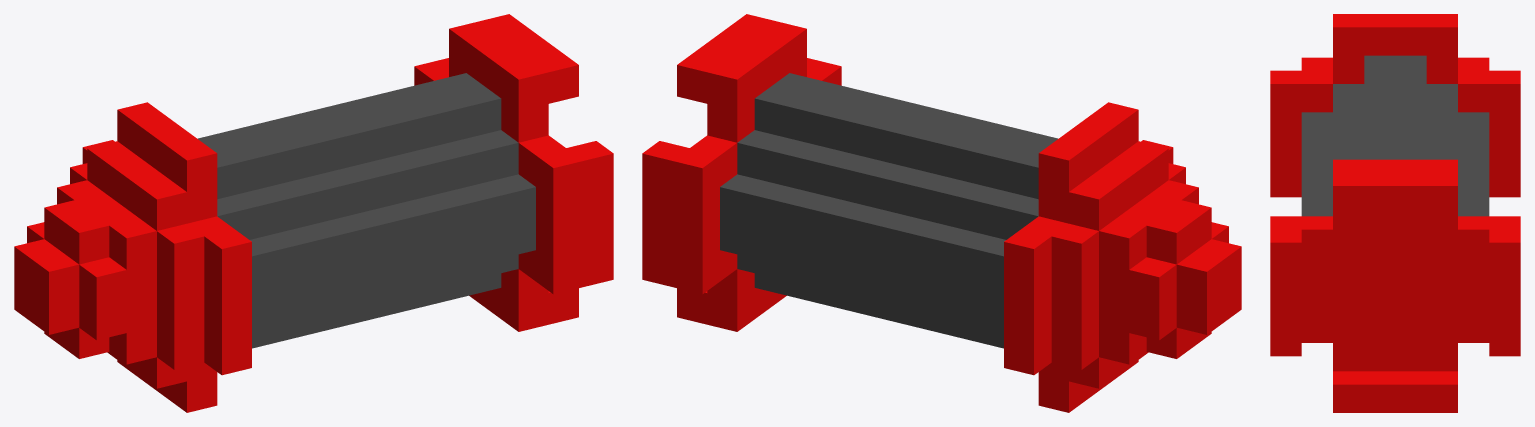
Rendered from missle.fbx.
3 renders of one model, left to right at view 1: azimuth 30°, elevation 25°; view 2: azimuth 150°, elevation 25°; view 3: azimuth 270°, elevation 25°, orthographic. The views are drawn at different scales.
Parts seen in each view (by area): view 1: missle; view 2: missle; view 3: missle.
Part boxes in pixels (x1,y1,x2,y2): missle: (14,14,613,412); missle: (642,14,1241,412); missle: (1270,14,1520,412).
Size of the model in its own units: 170 by 80 by 80.
Materials: 1 (1 with a texture image).
